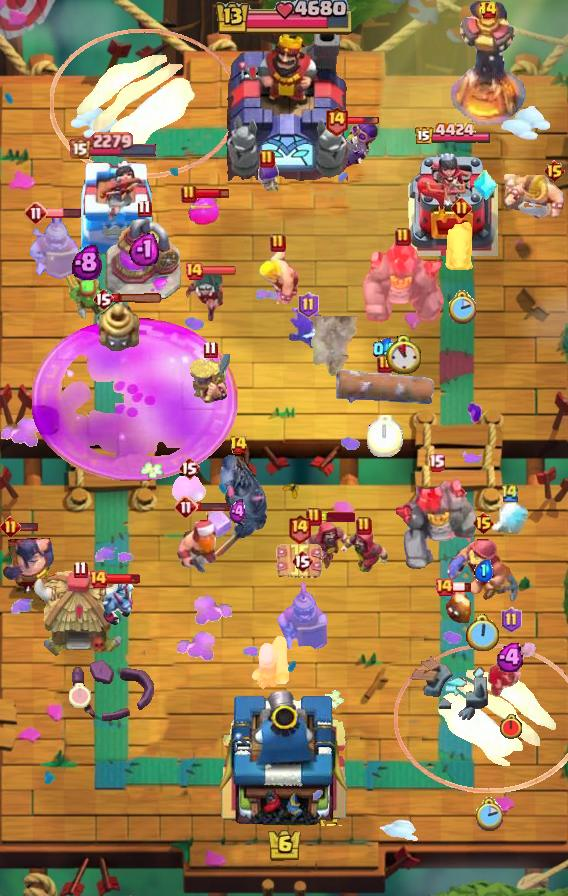bandit: (183, 269, 227, 325)
bar: (112, 293, 164, 304), (195, 187, 230, 200), (105, 573, 141, 585), (46, 207, 82, 219), (201, 265, 237, 276), (4, 521, 39, 532), (196, 501, 231, 512), (319, 512, 355, 522), (346, 116, 380, 126), (452, 581, 472, 593)
bar-level: (287, 513, 312, 544), (324, 105, 349, 136), (174, 495, 198, 519), (24, 201, 48, 225), (472, 511, 495, 535), (543, 159, 566, 183), (501, 607, 522, 633), (298, 292, 319, 318), (291, 549, 313, 573), (178, 456, 200, 480), (92, 287, 114, 311), (0, 516, 21, 537), (451, 197, 472, 218), (500, 482, 520, 503), (434, 577, 454, 597), (88, 569, 108, 589), (184, 261, 204, 281), (229, 435, 248, 455), (479, 0, 498, 20), (428, 453, 445, 472), (356, 516, 372, 536), (306, 507, 322, 527), (377, 354, 393, 374), (270, 233, 286, 253), (395, 227, 411, 247), (181, 184, 197, 204), (259, 149, 275, 169), (73, 560, 88, 579), (203, 340, 218, 359), (137, 199, 152, 218)
barbarian: (256, 249, 300, 304)
barbarian-evolution: (190, 354, 230, 403)
bomber-evolution: (328, 119, 380, 175)
clock: (367, 415, 403, 457), (466, 614, 501, 654), (386, 335, 421, 374), (474, 797, 503, 831), (447, 290, 476, 324), (499, 714, 523, 740), (69, 683, 91, 708)
dirt: (304, 316, 357, 382)
electro-spirit: (287, 308, 329, 348)
elite-barbarian: (502, 174, 568, 224)
elixir: (72, 244, 102, 280), (129, 231, 159, 266), (496, 643, 527, 672), (373, 337, 397, 361), (229, 499, 247, 524), (474, 559, 493, 582)
elixir-golem-small: (171, 476, 207, 506), (187, 195, 219, 225)
executioner: (0, 524, 56, 596)
fire-spirit: (445, 591, 473, 625)
firecracker: (249, 633, 291, 691)
hog: (444, 221, 478, 277)
ice-spirit: (491, 500, 529, 534)
ice-spirit-evolution-symbol: (472, 169, 498, 201)
king-tower: (219, 21, 349, 181), (214, 684, 354, 826)
king-tower-bar: (213, 0, 355, 38)
lumberjack: (175, 504, 235, 578)
minion: (93, 576, 135, 628)
queen-tower: (408, 152, 498, 256), (68, 158, 160, 256)
royal-recruit: (274, 577, 330, 653), (28, 211, 80, 281)
skeleton-evolution: (252, 160, 282, 200)
spear-goblin: (64, 273, 110, 321)
tesla: (275, 540, 323, 582)
the-log: (334, 364, 436, 408)
tower-bar: (69, 131, 159, 159), (414, 122, 492, 147)
valkyrie: (484, 638, 538, 698)
wizard: (301, 518, 351, 572), (338, 526, 390, 576)
zappy: (96, 299, 142, 351)
